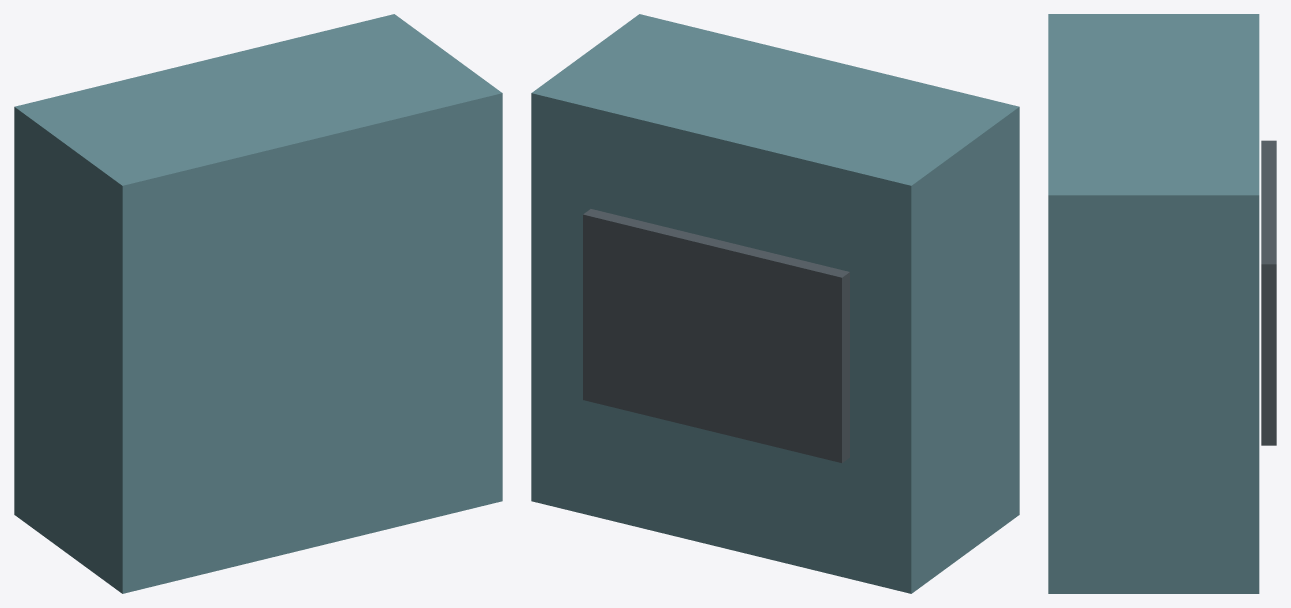
The model's file is iz2_hospital_stretcher_fold.glb.
3 renders of one model, left to right at view 1: azimuth 30°, elevation 25°; view 2: azimuth 150°, elevation 25°; view 3: azimuth 270°, elevation 25°, orthographic. The views are drawn at different scales.
Parts seen in each view (by area): view 1: body; view 2: body; view 3: body.
Boxes of the visible parts, x1,y1,x2,y2 form: body: (14,14,502,593); body: (531,14,1019,593); body: (1048,14,1276,593).
Bounding box in the file's own units: 1.08 × 1.11 × 0.5772.
